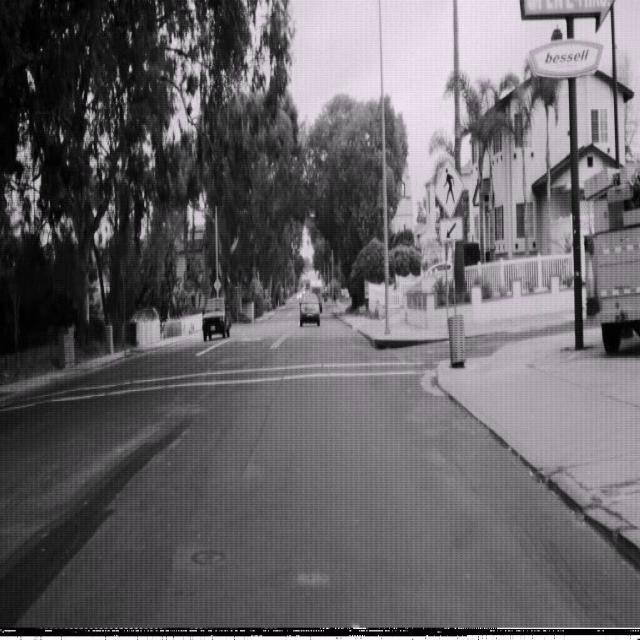pedestrianCrossing: (434, 156, 464, 220)
